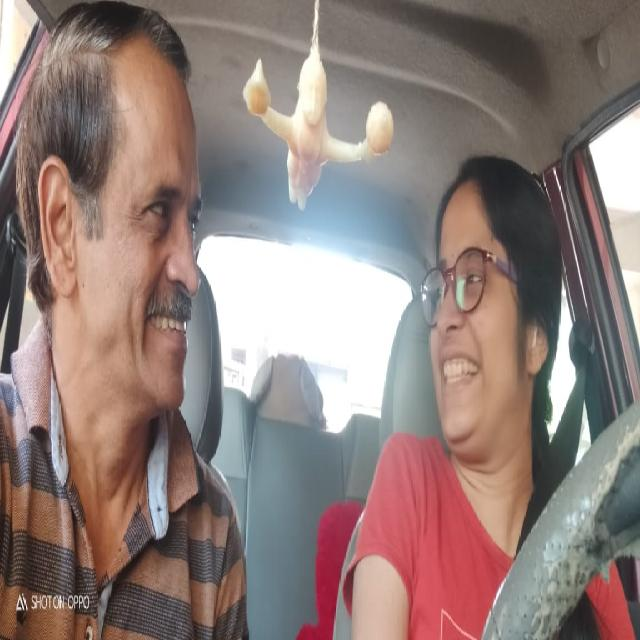LeftRight: (415, 130, 554, 467)
person: (23, 4, 209, 434)
talking: (141, 293, 197, 356), (435, 344, 483, 399)
